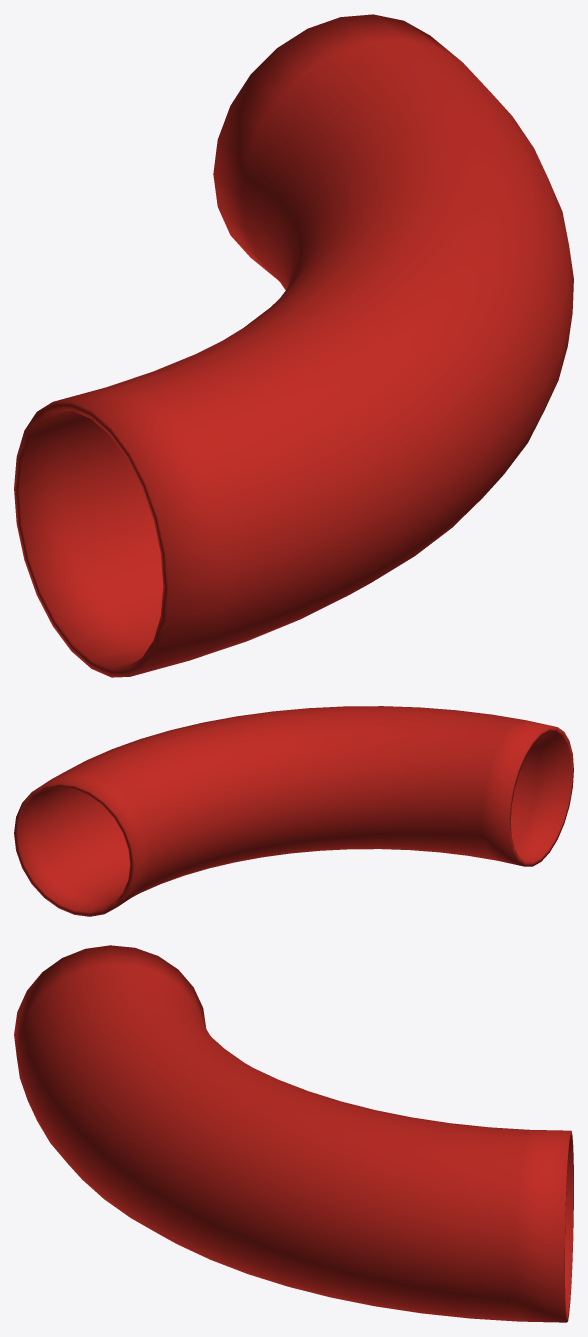
The model's file is SM_WS_FirePipeElbow90.fbx.
3 renders of one model, top to bottom at view 1: azimuth 30°, elevation 25°; view 2: azimuth 150°, elevation 25°; view 3: azimuth 270°, elevation 25°, orthographic. The views are drawn at different scales.
Parts seen in each view (by area): view 1: SM_WS_FirePipeElbow90; view 2: SM_WS_FirePipeElbow90; view 3: SM_WS_FirePipeElbow90.
Part boxes in pixels (bbox=[...]): SM_WS_FirePipeElbow90: bbox=[14, 14, 573, 677]; SM_WS_FirePipeElbow90: bbox=[14, 706, 573, 916]; SM_WS_FirePipeElbow90: bbox=[14, 945, 573, 1322].
Size of the model in its own units: 0.244 by 0.244 by 0.084.
